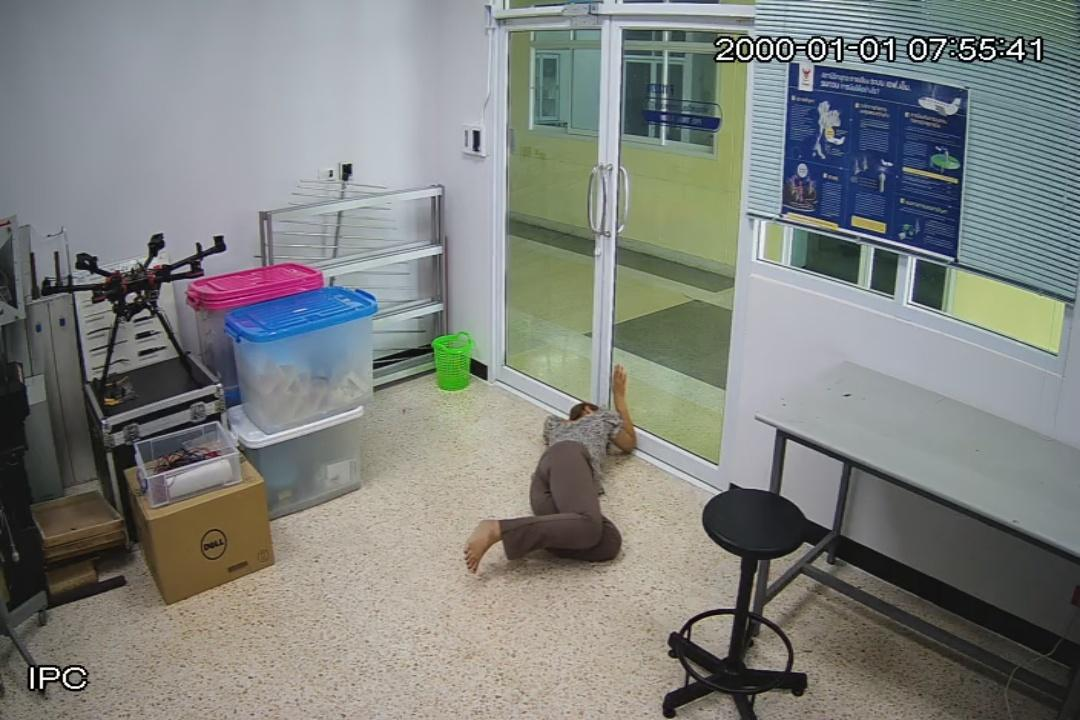fall: (462, 368, 646, 593)
